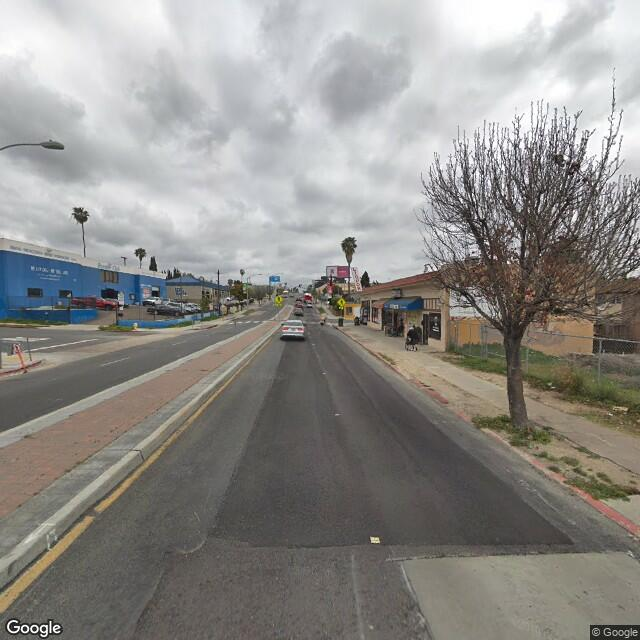light: (44, 139, 65, 154)
